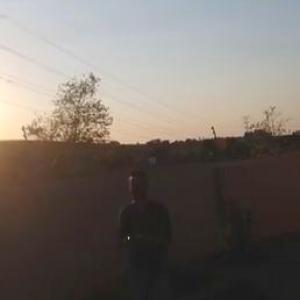follow: (114, 160, 181, 299)
